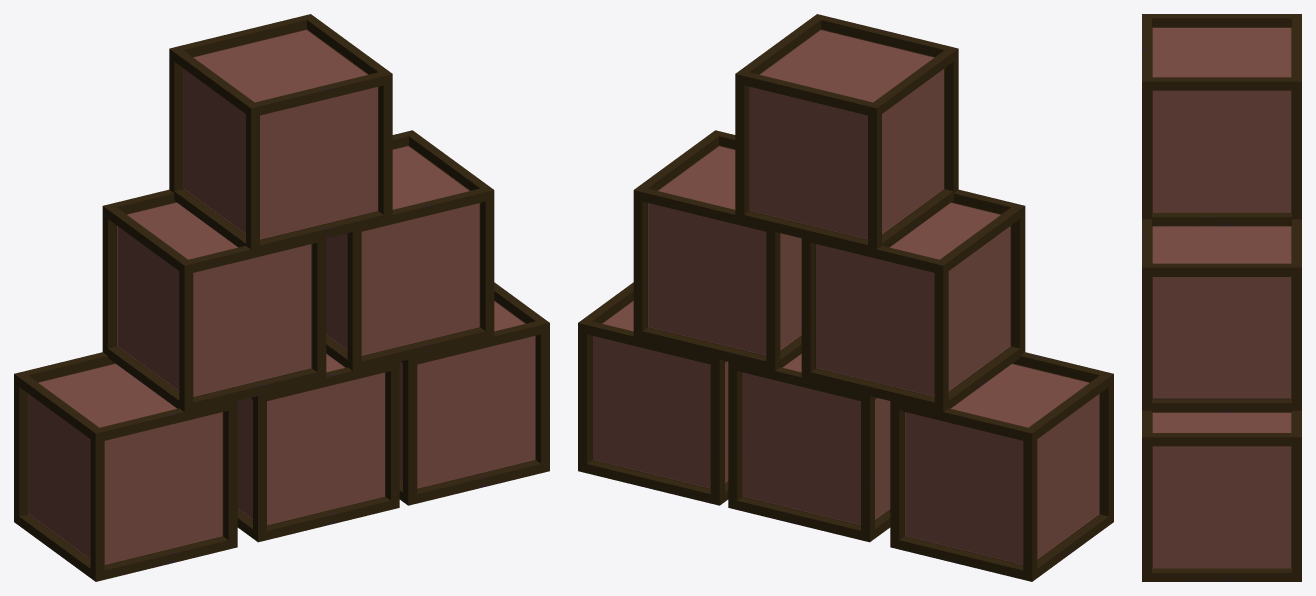
The model's file is cratewall.glb.
3 renders of one model, left to right at view 1: azimuth 30°, elevation 25°; view 2: azimuth 150°, elevation 25°; view 3: azimuth 270°, elevation 25°, orthographic. The views are drawn at different scales.
Parts seen in each view (by area): view 1: Cube.006; view 2: Cube.006; view 3: Cube.006.
Part boxes in pixels (x1,y1,x2,y2): Cube.006: [14, 14, 549, 581]; Cube.006: [578, 14, 1113, 581]; Cube.006: [1142, 14, 1301, 581].
Size of the model in its own units: 3.49 by 3.2 by 1.09.
Materials: 1 (1 with a texture image).
